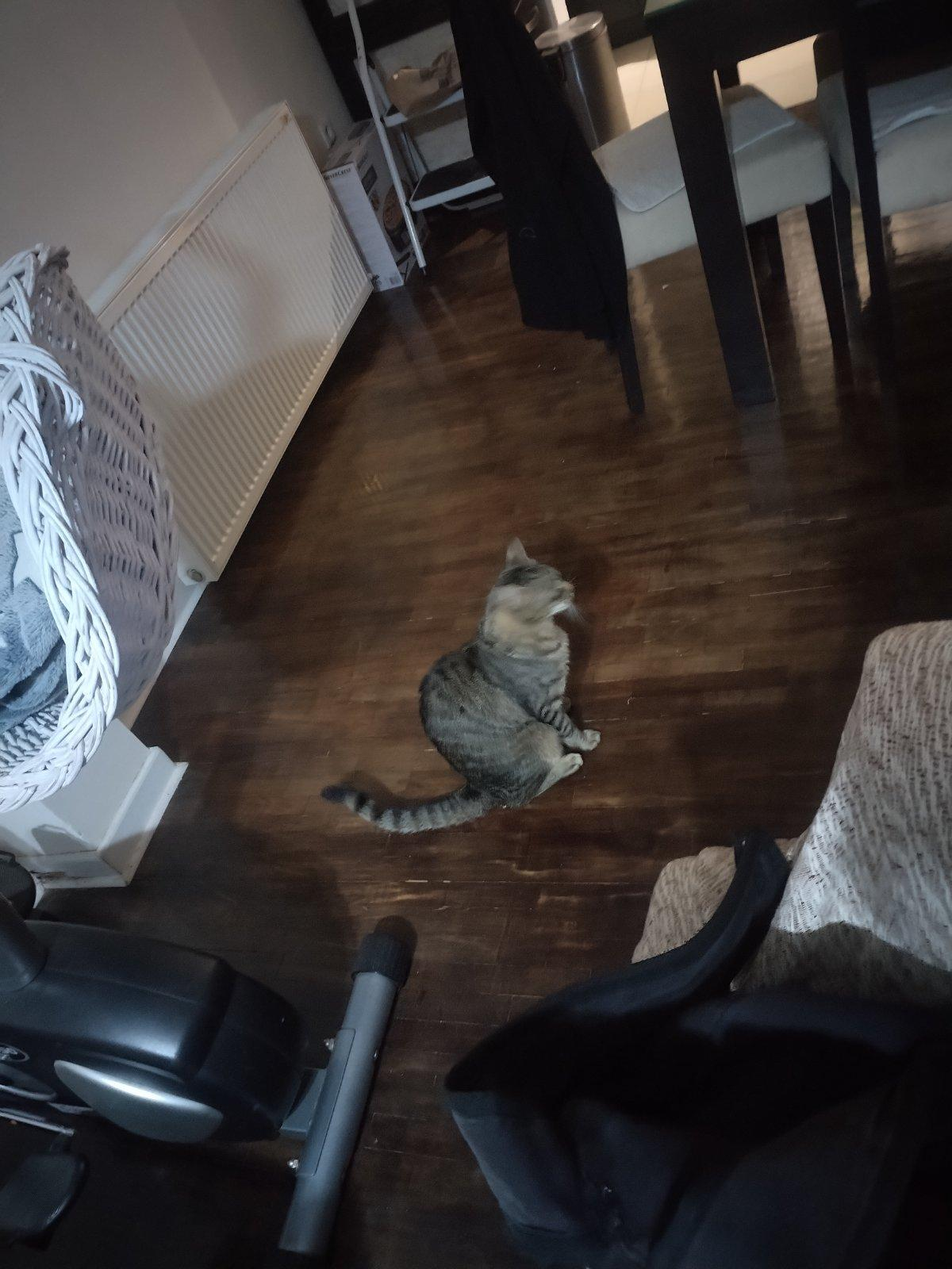macka: (317, 537, 606, 836)
